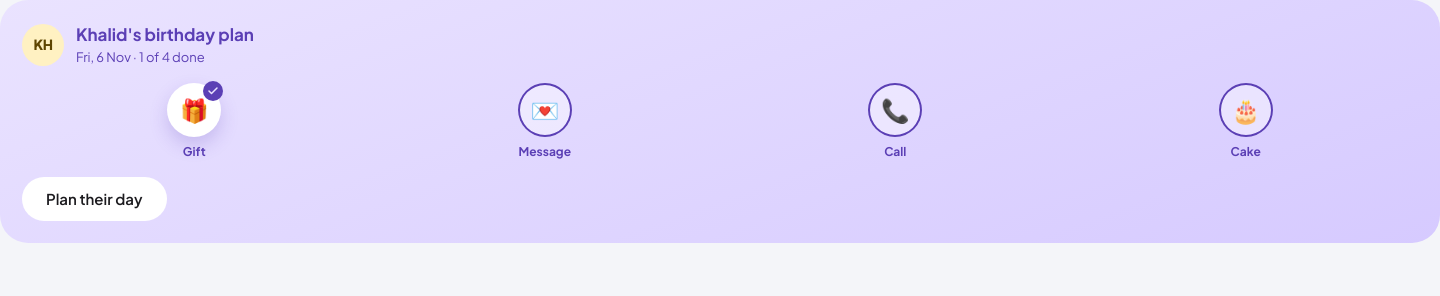
Test: birthday plans on Home › ticking a step of an existing plan shows at once and rolls back if it fails
Click the button named "Message": (545, 110) [518, 83, 572, 137]
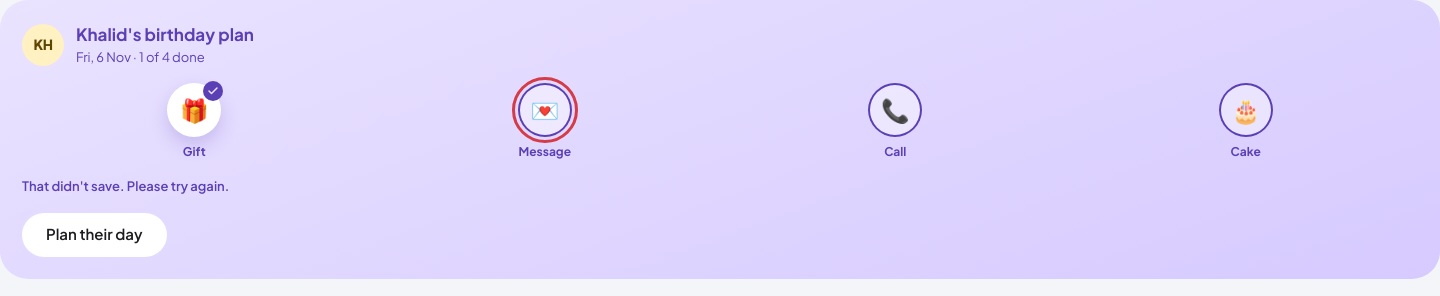
Check: the text "That didn't save. Please try again." is shown, box [22, 178, 229, 194]
